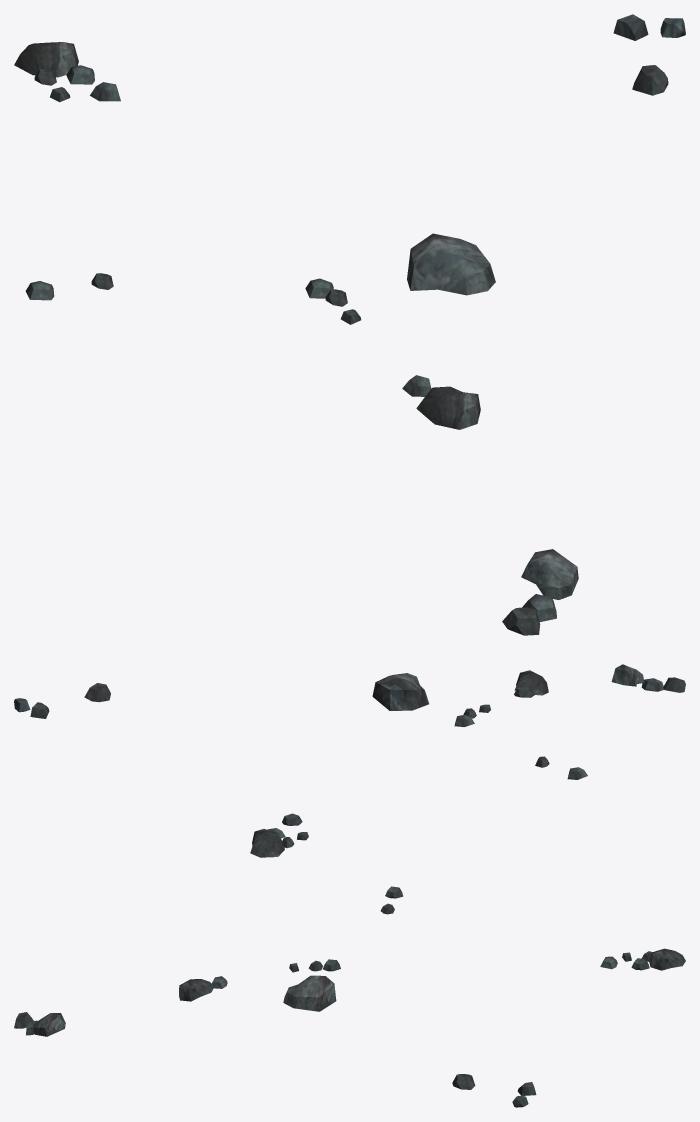
The model's file is menu_town_rubble_11.fbx.
The picture shows the model from 3 angles, top to bottom: view 1: azimuth 30°, elevation 25°; view 2: azimuth 150°, elevation 25°; view 3: azimuth 270°, elevation 25°; orthographic projection. The views are drawn at different scales.
Visible parts, largest first — view 1: Material_#238683587/cliffside; view 2: Material_#238683587/cliffside; view 3: Material_#238683587/cliffside.
Part boxes in pixels (x1=…): Material_#238683587/cliffside: x1=14, y1=14, x2=685, y2=635; Material_#238683587/cliffside: x1=14, y1=664, x2=685, y2=857; Material_#238683587/cliffside: x1=14, y1=886, x2=685, y2=1107.
Size of the model in its own units: 13.02 by 2.75 by 16.92.
